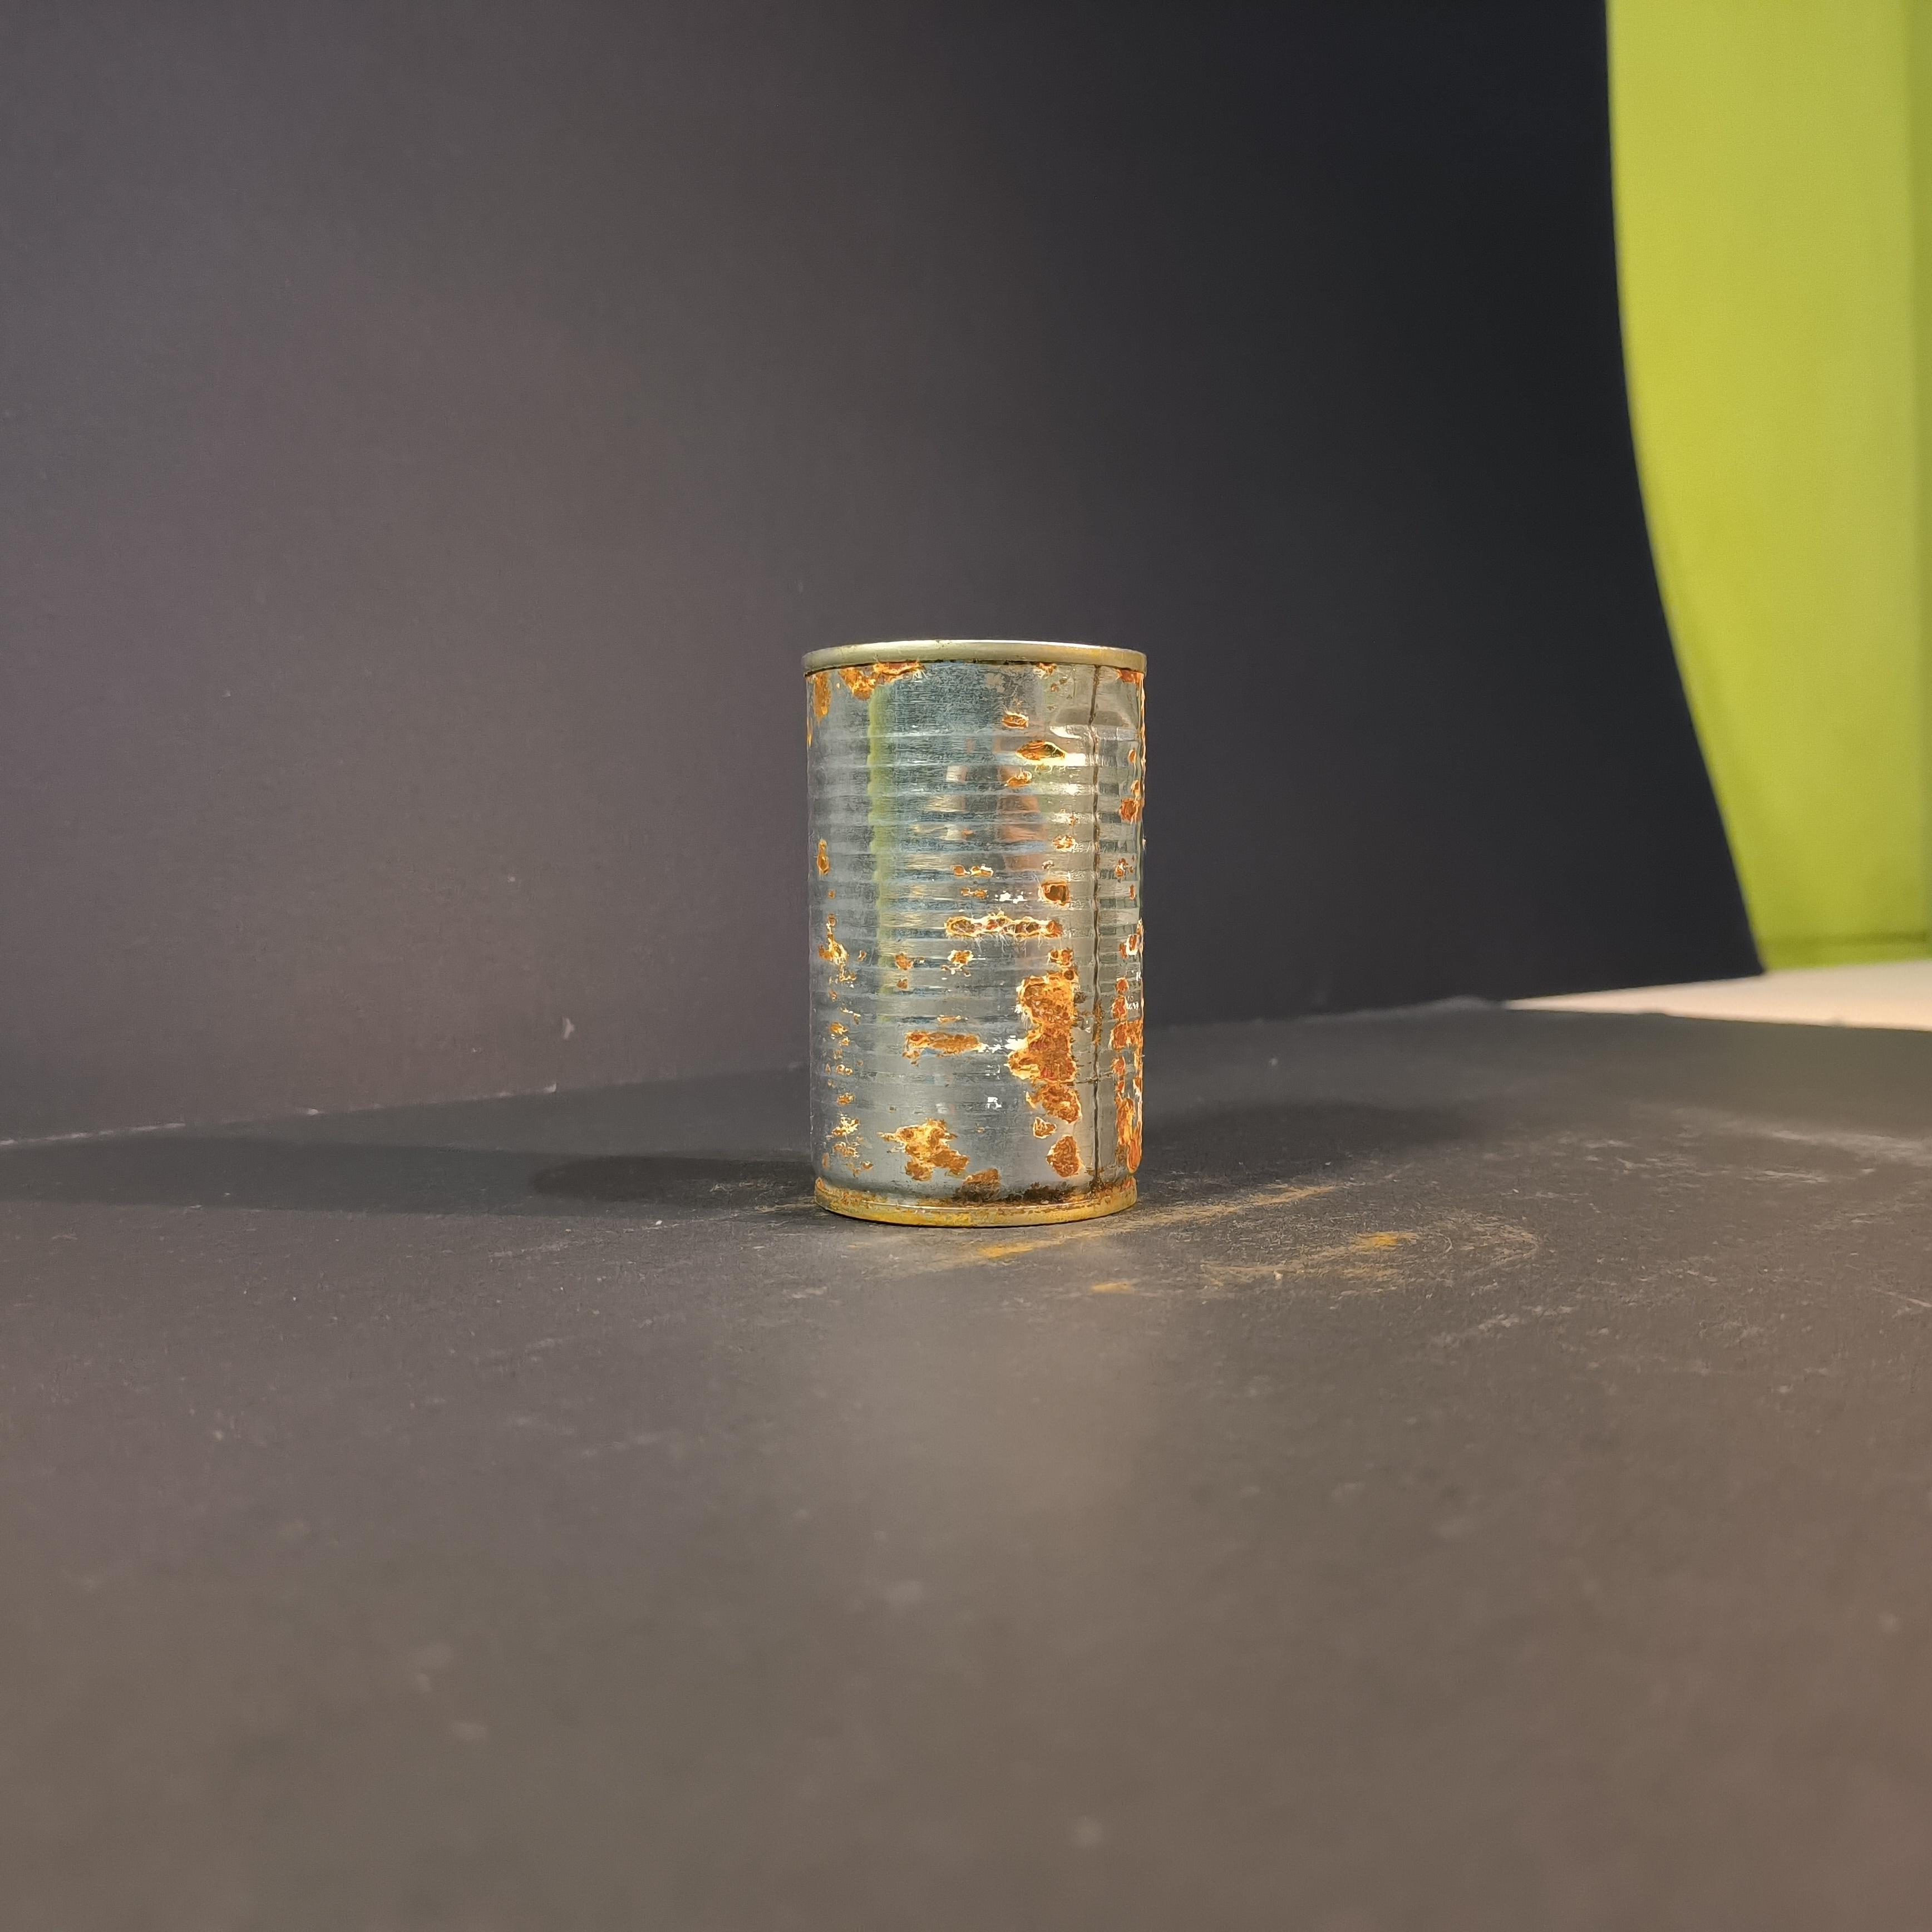Rusted: (791, 603, 1171, 1238)
